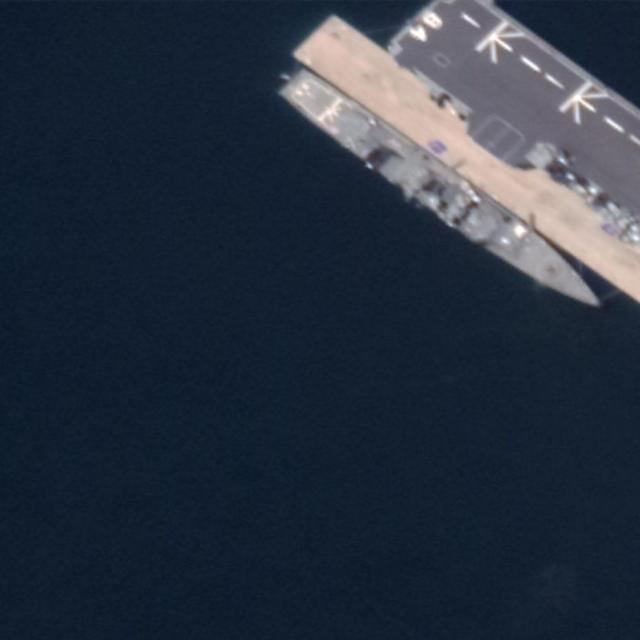Destroyer: (274, 56, 614, 328)
